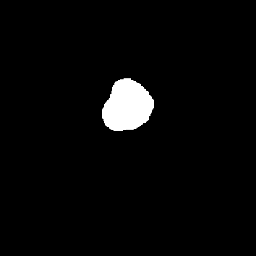mass: (104, 73, 153, 129)
